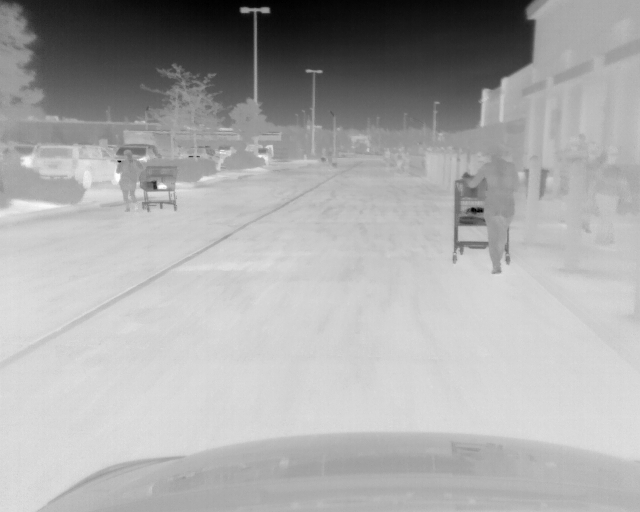car: (31, 143, 121, 186), (112, 142, 161, 174)
people: (467, 145, 522, 275), (590, 144, 631, 241), (116, 149, 143, 210)
